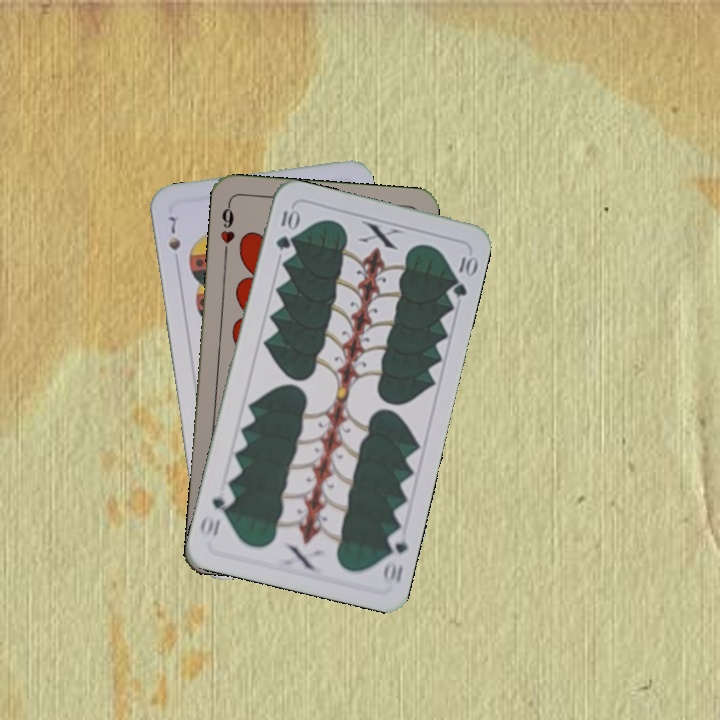G10: (378, 527, 411, 587), (272, 206, 300, 253)
H9: (216, 199, 237, 258)
S7: (164, 212, 184, 253)
